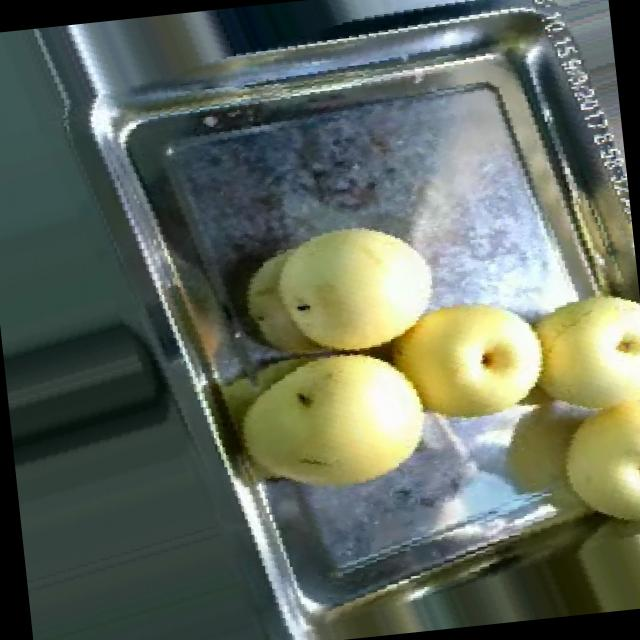Fruit: (202, 340, 454, 530), (218, 200, 450, 363), (364, 276, 562, 426), (493, 269, 640, 421), (536, 396, 640, 563)
